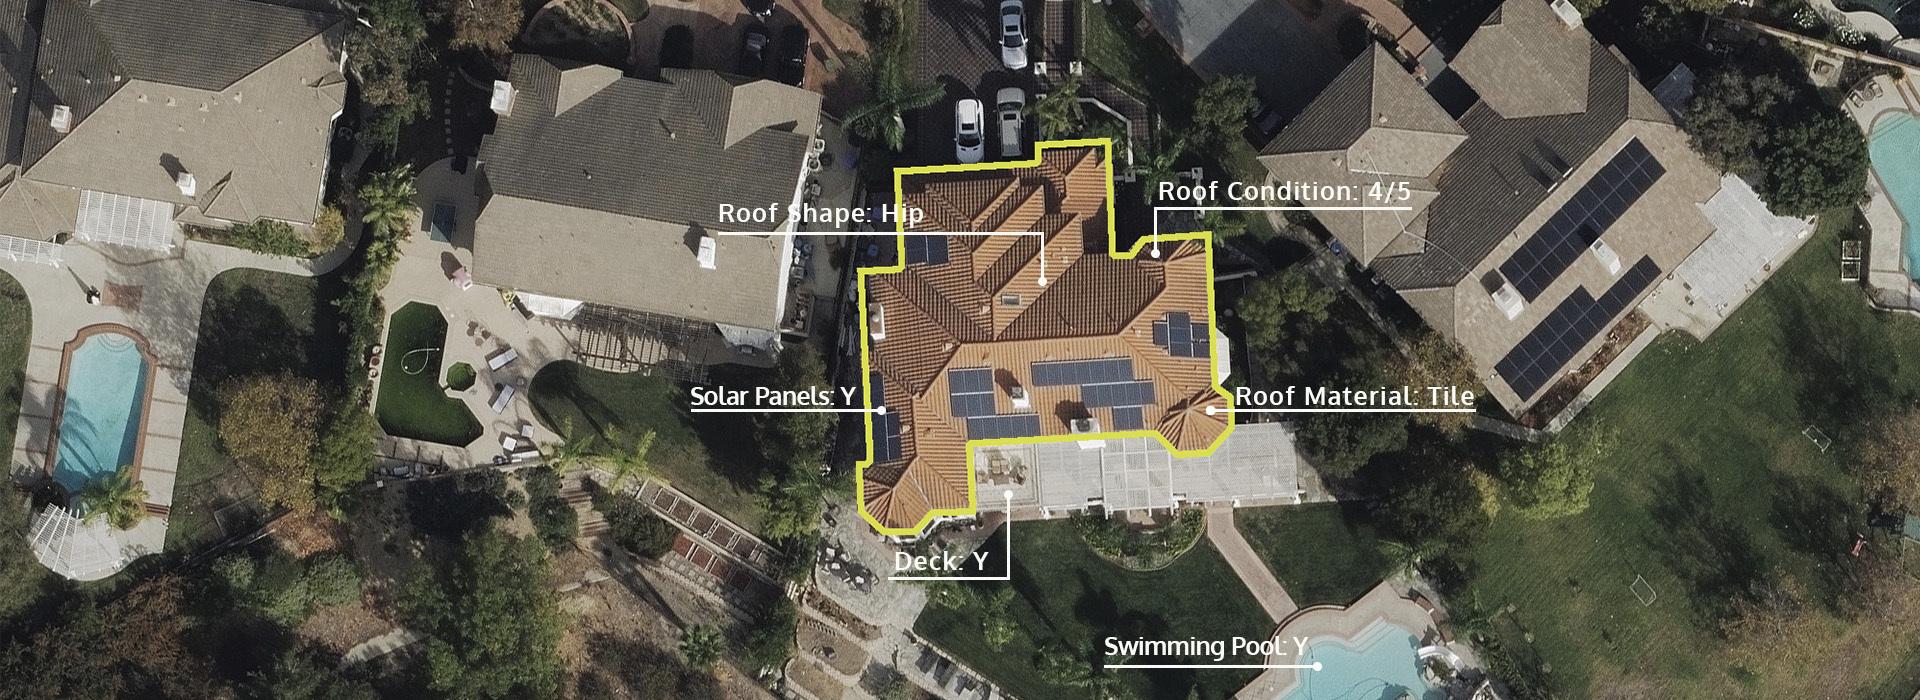solar-panel: (1493, 135, 1653, 277), (1491, 277, 1667, 392), (948, 367, 1049, 441), (862, 374, 912, 465), (1069, 382, 1160, 427), (1041, 359, 1144, 385), (1158, 307, 1209, 357), (909, 234, 951, 262)
